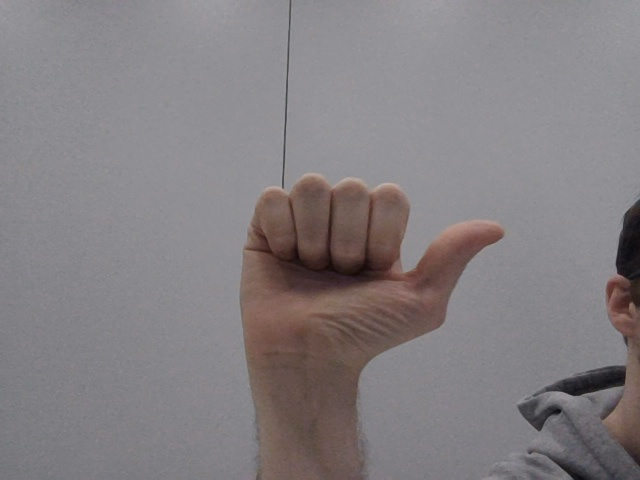left: (203, 152, 527, 394)
